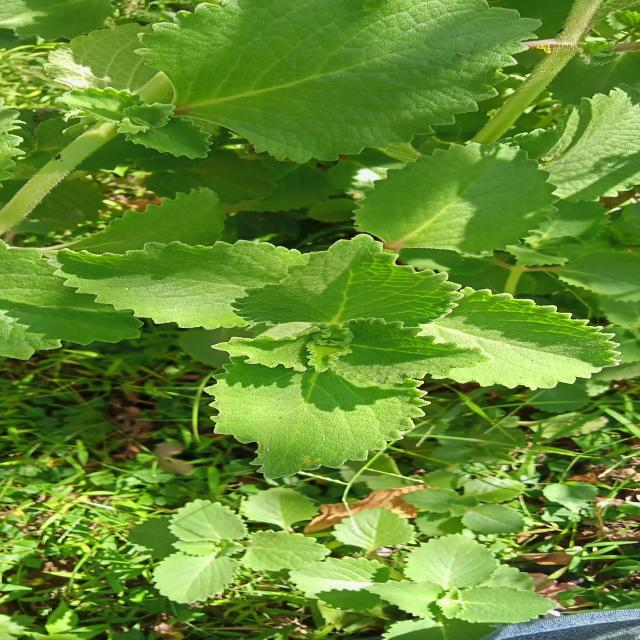Oregano: (25, 218, 640, 482), (25, 0, 640, 171), (87, 478, 592, 640), (343, 136, 595, 270), (42, 55, 223, 178)
